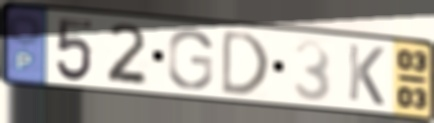2: (105, 22, 151, 87)
3: (292, 36, 334, 104)
5: (53, 16, 96, 82)
D: (219, 27, 272, 98)
G: (165, 27, 215, 92)
K: (345, 41, 387, 109)
